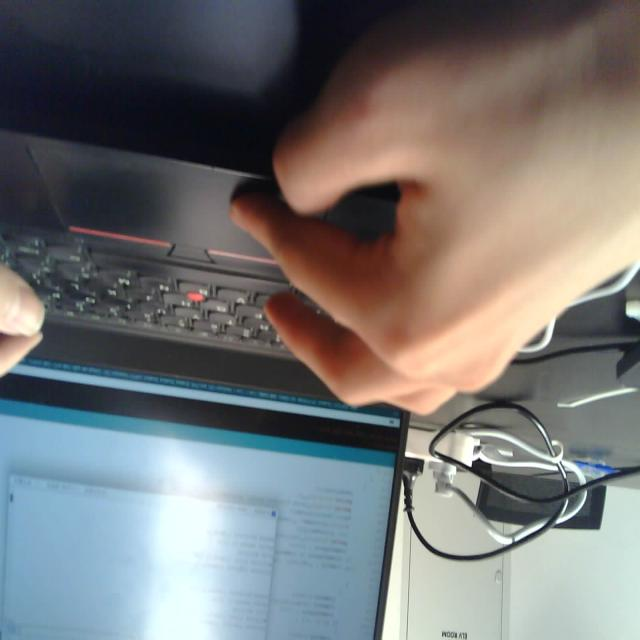keyboard-with-hands: (0, 130, 418, 386)
